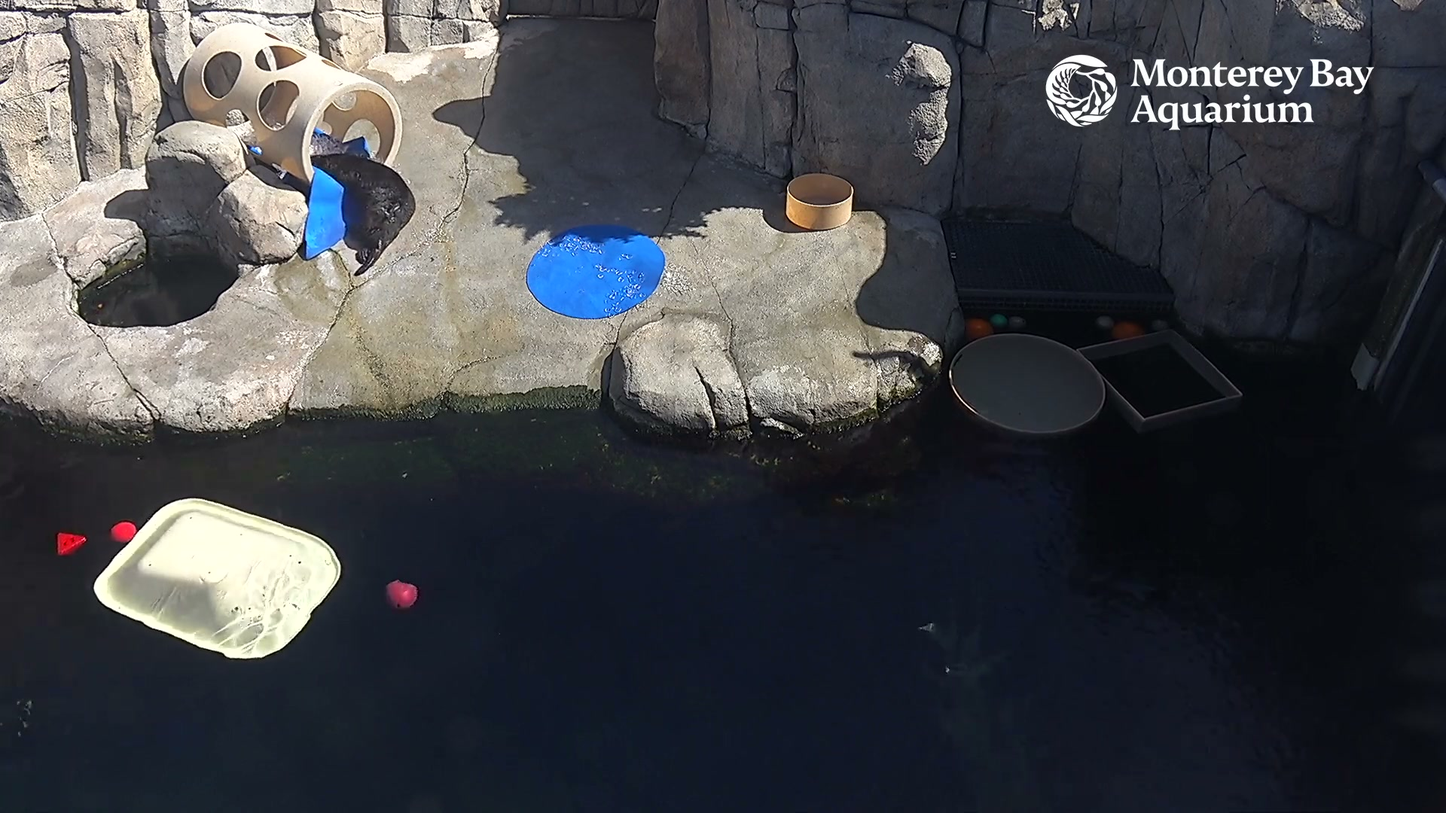Southern Sea Otter: (307, 129, 424, 281)
